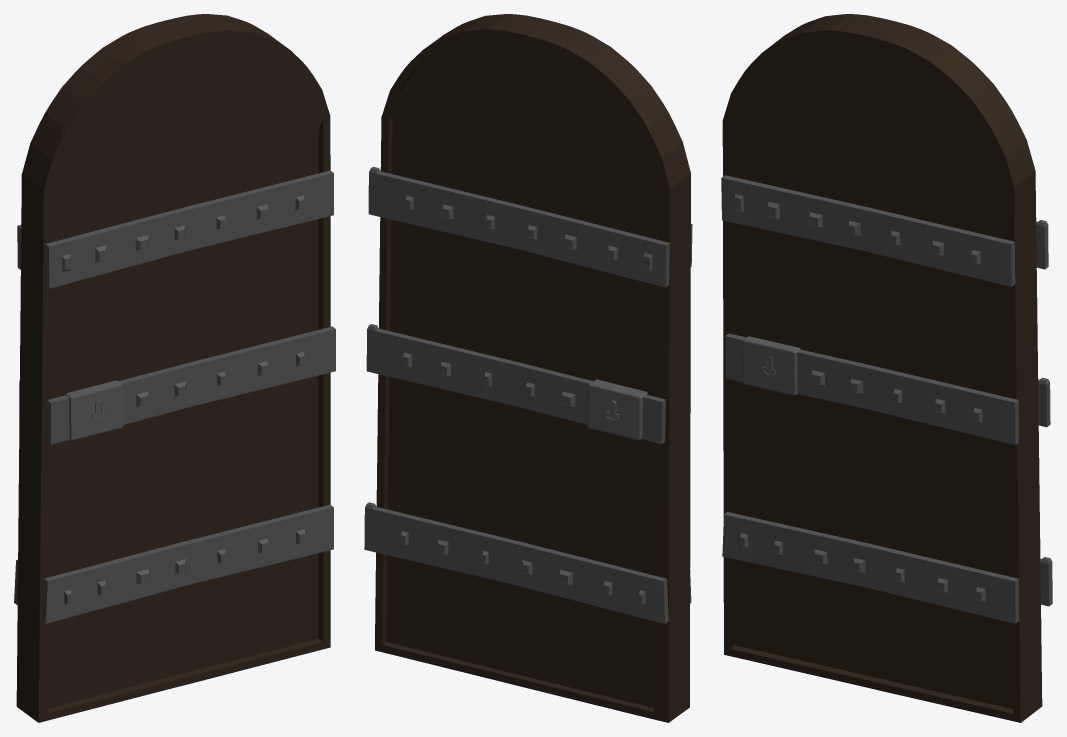
File: low_door_001.fbx
3 renders of one model, left to right at view 1: azimuth 30°, elevation 25°; view 2: azimuth 150°, elevation 25°; view 3: azimuth 330°, elevation 25°, orthographic.
Parts seen in each view (by area): view 1: low_door_001; view 2: low_door_001; view 3: low_door_001.
Part boxes in pixels (x1,y1,x2,y2): low_door_001: (14, 14, 335, 722); low_door_001: (364, 14, 692, 722); low_door_001: (721, 14, 1052, 722).
Size of the model in its own units: 235 by 487 by 49.24.
